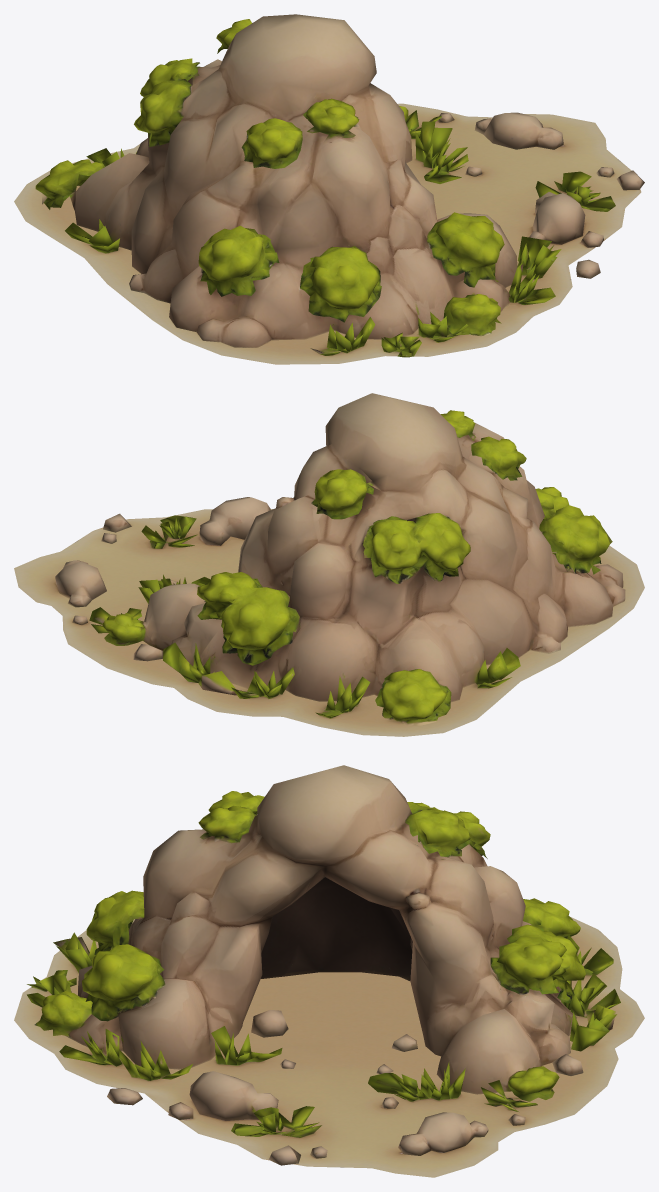
File: low_poly_cave_3d_model.glb
3 renders of one model, top to bottom at view 1: azimuth 30°, elevation 25°; view 2: azimuth 150°, elevation 25°; view 3: azimuth 270°, elevation 25°, orthographic. The views are drawn at different scales.
Parts seen in each view (by area): view 1: tripo_node_1cb31129-1324-4aea-9e11-f65d18a0ca52; view 2: tripo_node_1cb31129-1324-4aea-9e11-f65d18a0ca52; view 3: tripo_node_1cb31129-1324-4aea-9e11-f65d18a0ca52.
Boxes of the visible parts, <box> form: tripo_node_1cb31129-1324-4aea-9e11-f65d18a0ca52: <box>14,14,644,364</box>; tripo_node_1cb31129-1324-4aea-9e11-f65d18a0ca52: <box>14,393,644,736</box>; tripo_node_1cb31129-1324-4aea-9e11-f65d18a0ca52: <box>14,765,644,1177</box>.
Bounding box in the file's own units: 0.998 × 0.4082 × 0.9824.
1 material, 1 textured.
